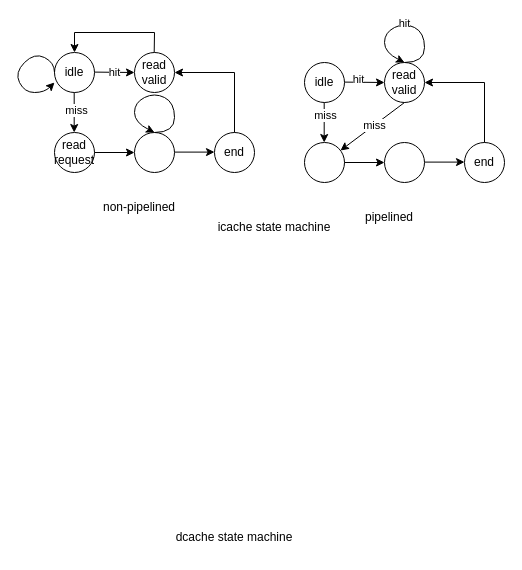
This 522x570 diagram has some shape labels left out. The centre of each missing label's shape, as x and y in pixels:
read sram: the point at 324,162
reading: the point at 154,152
wait: the point at 404,162
